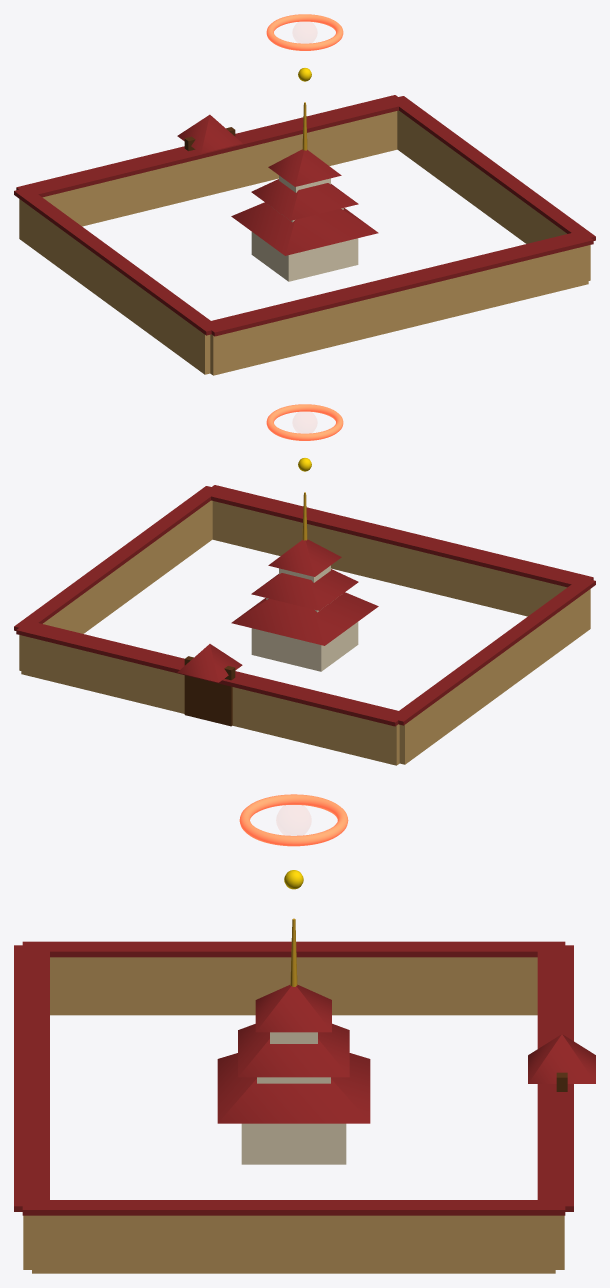
The model's file is palace.glb.
The picture shows the model from 3 angles, top to bottom: view 1: azimuth 30°, elevation 25°; view 2: azimuth 150°, elevation 25°; view 3: azimuth 270°, elevation 25°; orthographic projection. The views are drawn at different scales.
Size of the model in its own units: 40.72 by 23.83 by 37.34.
